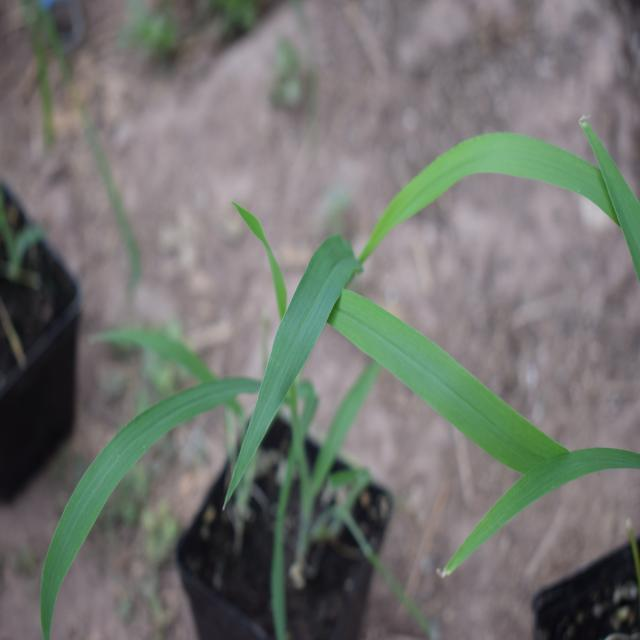crabgrass: (117, 145, 614, 574)
